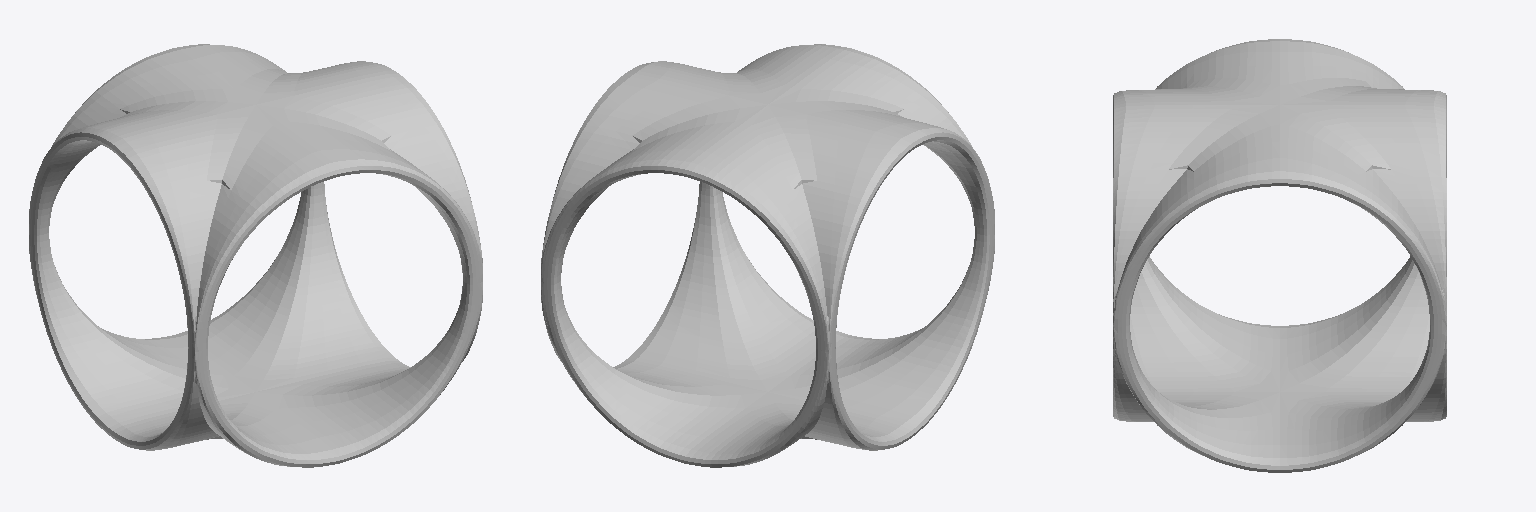
The model's file is tubeqd.obj.
3 views of the same model, side by side, from view 1: azimuth 30°, elevation 25°; view 2: azimuth 150°, elevation 25°; view 3: azimuth 270°, elevation 25° (orthographic).
Parts seen in each view (by area): view 1: Quad_Cylinder.006; view 2: Quad_Cylinder.006; view 3: Quad_Cylinder.006.
Boxes of the visible parts, <box> form: Quad_Cylinder.006: <box>29,44,482,467</box>; Quad_Cylinder.006: <box>541,44,994,467</box>; Quad_Cylinder.006: <box>1113,39,1446,472</box>.
Bounding box in the file's own units: 2 × 2 × 2.